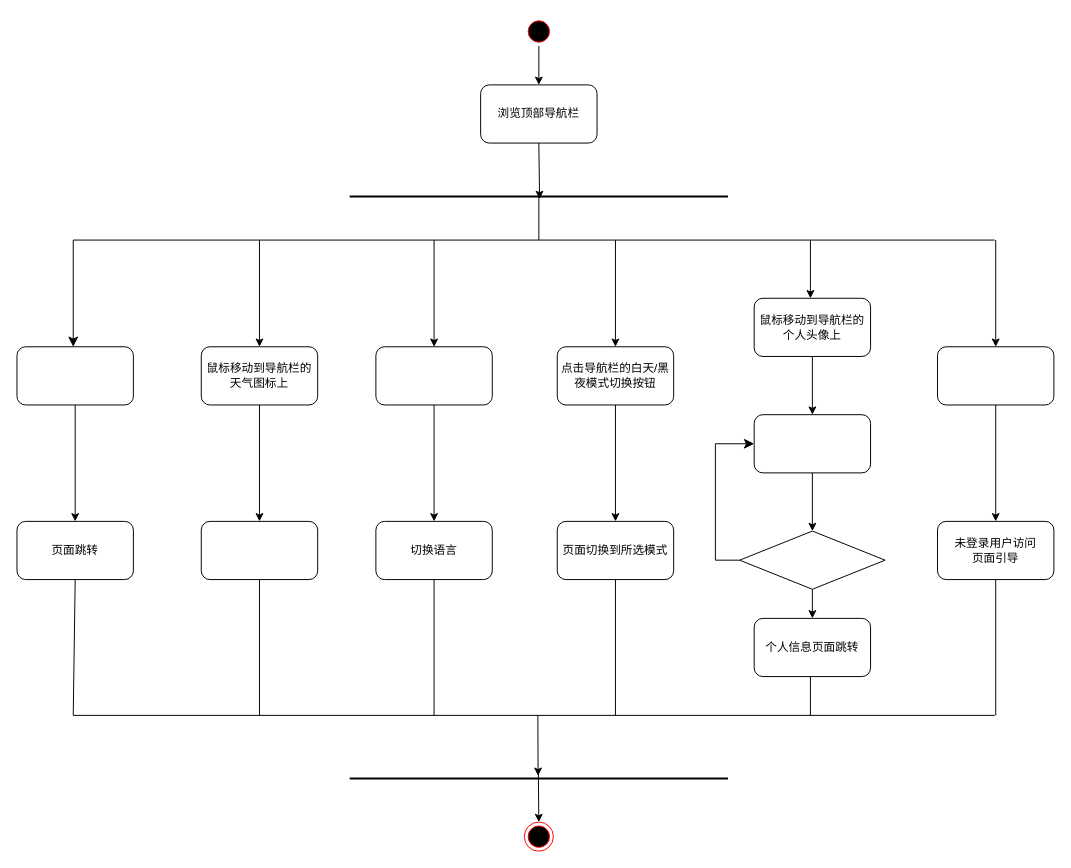
Some shapes in this 1071 by 868 pixel diagram are drawn without their labels. The centre of each missing label's shape, as x and y in pixels:
"如未登录， 进入引导流程" belongs at [995,375].
"查看个人信息" belongs at [812,443].
"查看所在地天气信息" belongs at [259,550].
"点击任意模块链接" belongs at [74,375].
"点击语言转换按钮，选择目标语言" belongs at [433,375].
